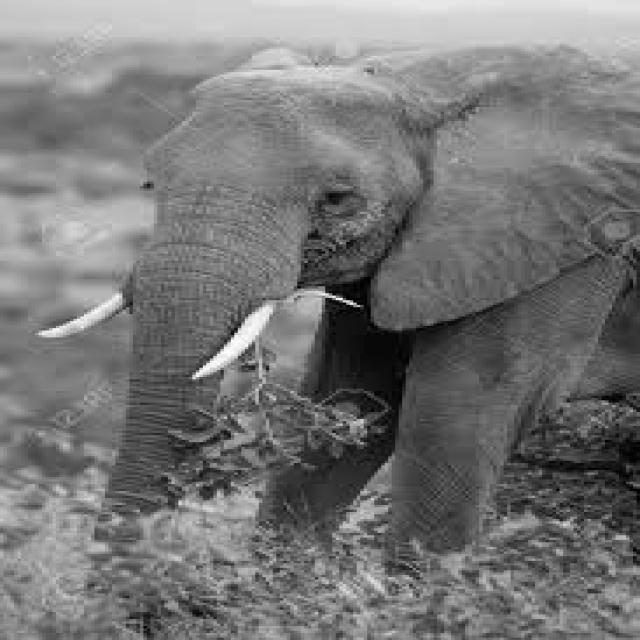Elephant: (35, 40, 636, 577)
